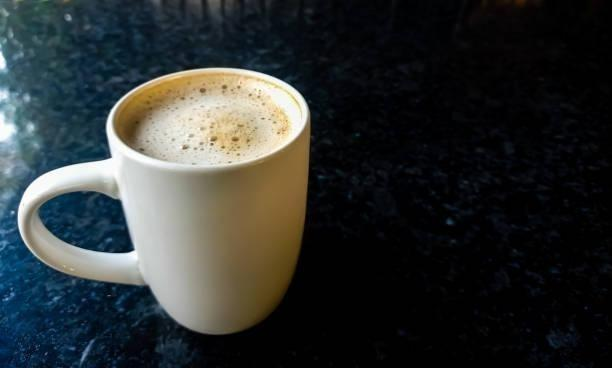cup-handle: (17, 65, 312, 335)
